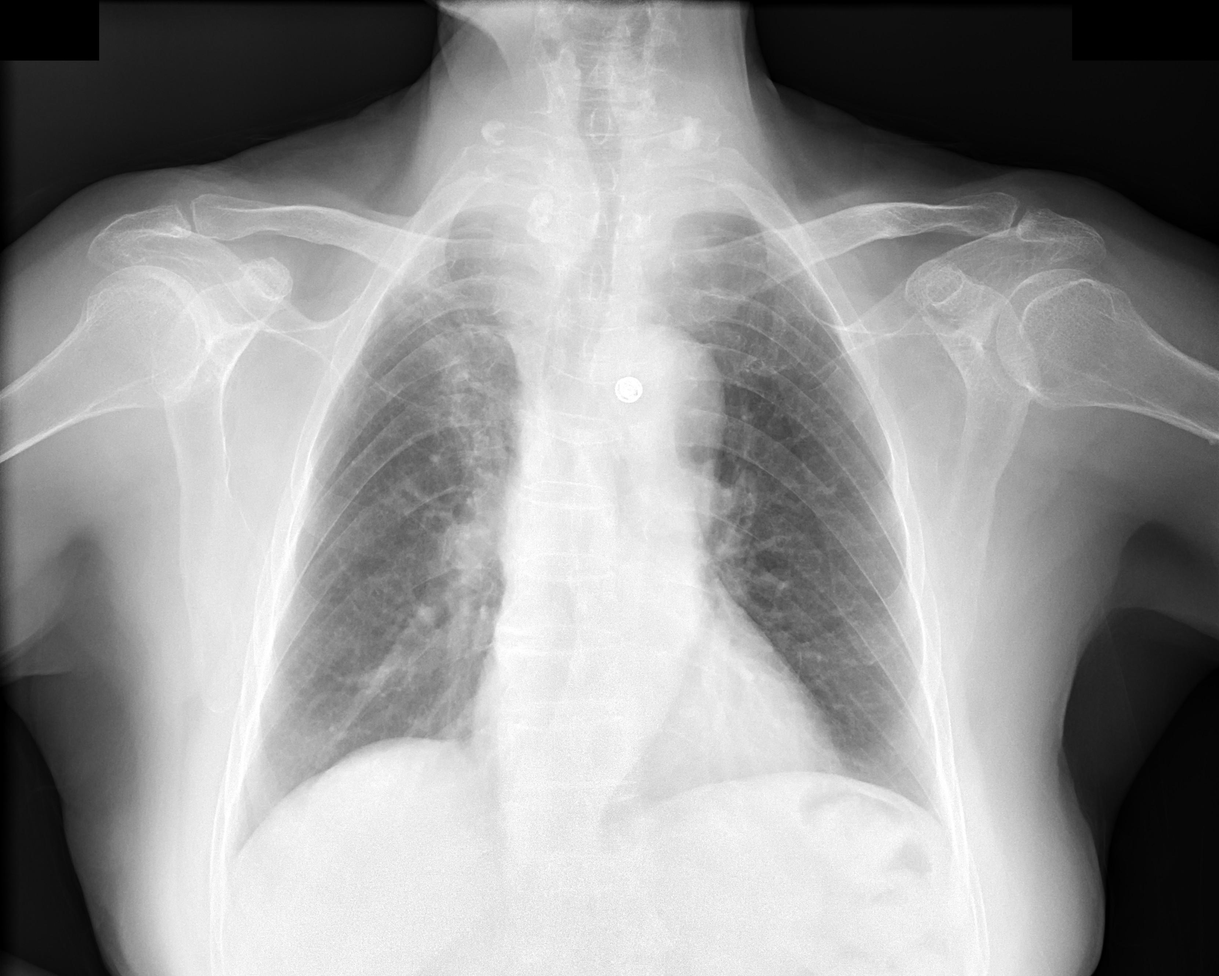Aortic enlargement: (599, 321, 727, 495)
Cardiomegaly: (469, 699, 844, 829)
Pleural thickening: (461, 202, 529, 226)
Pulmonary fibrosis: (432, 353, 516, 490)
